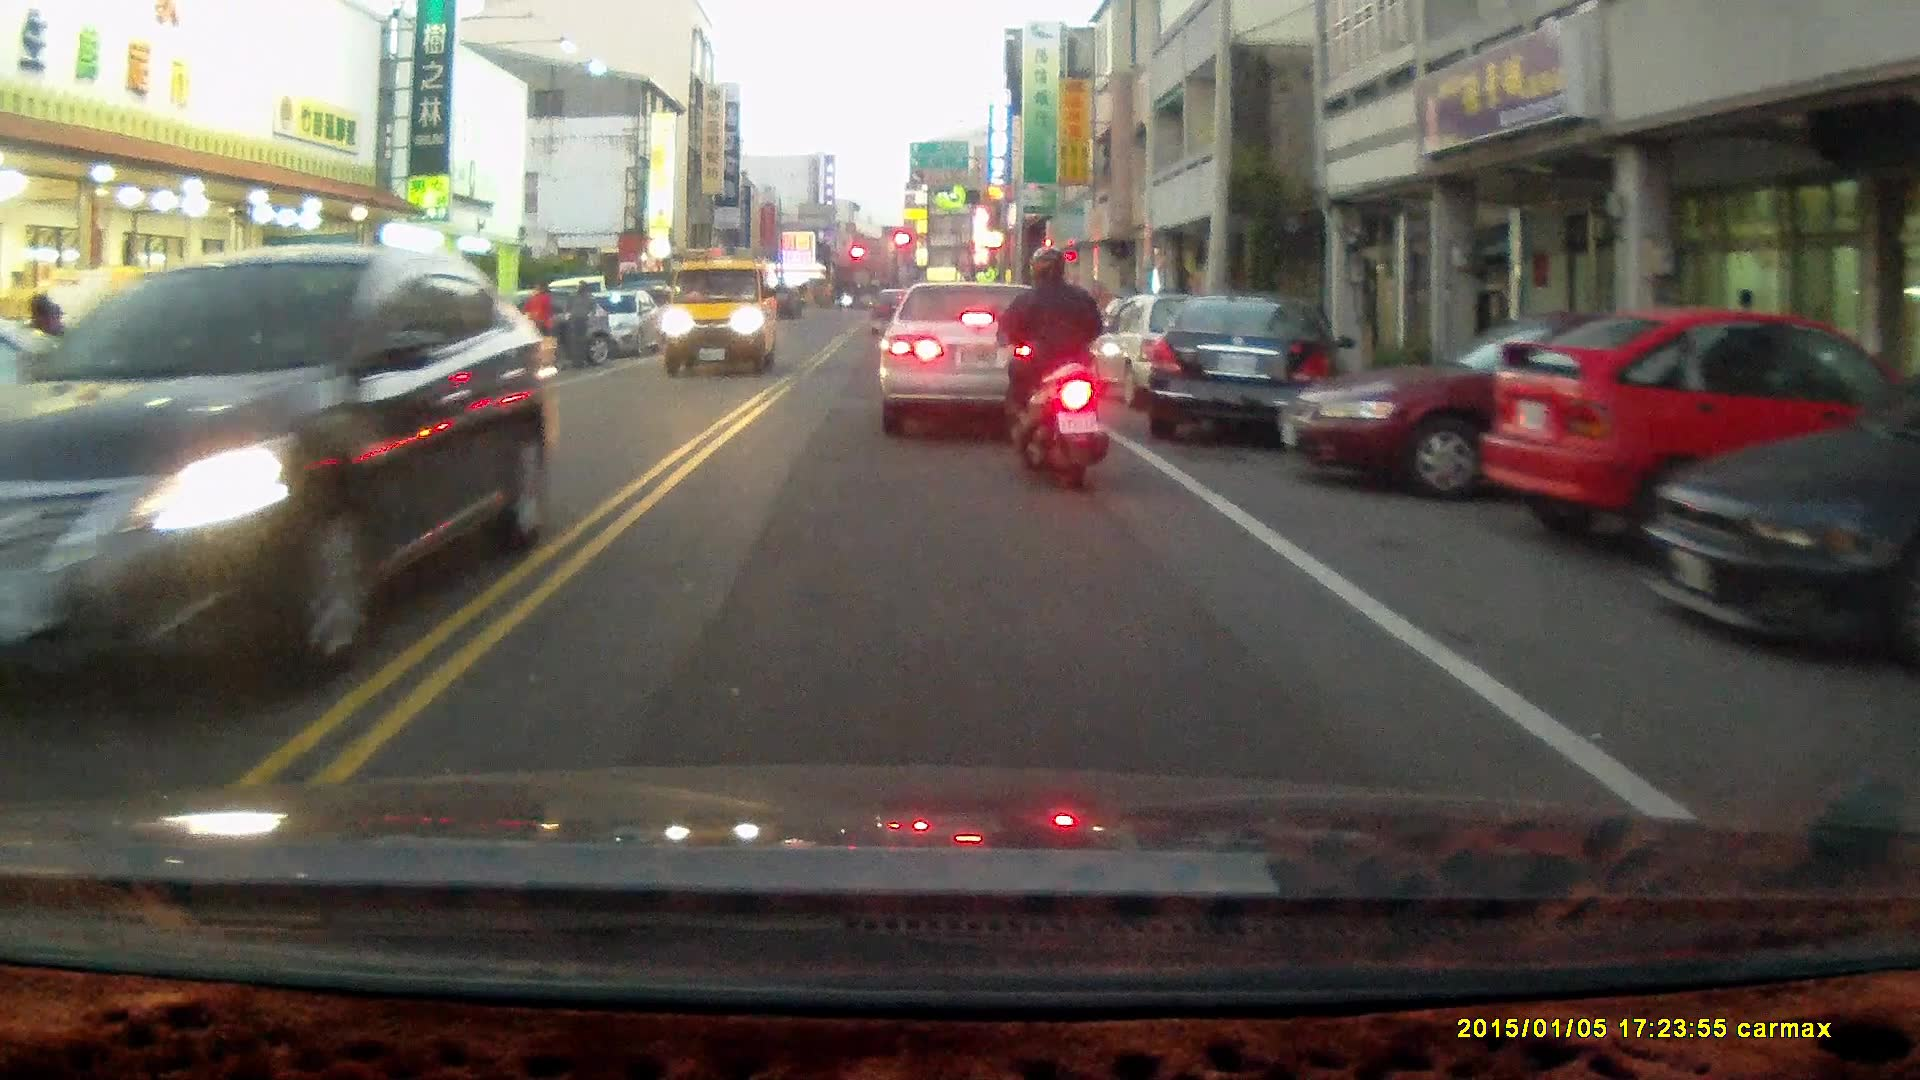pedestrian: (566, 280, 599, 373)
rider: (987, 246, 1118, 495), (496, 276, 563, 383)
vehicle: (1, 246, 561, 709), (1479, 306, 1880, 567), (1635, 340, 1920, 671), (1281, 307, 1745, 501), (1137, 293, 1335, 443), (877, 276, 1064, 427), (660, 257, 775, 378)
